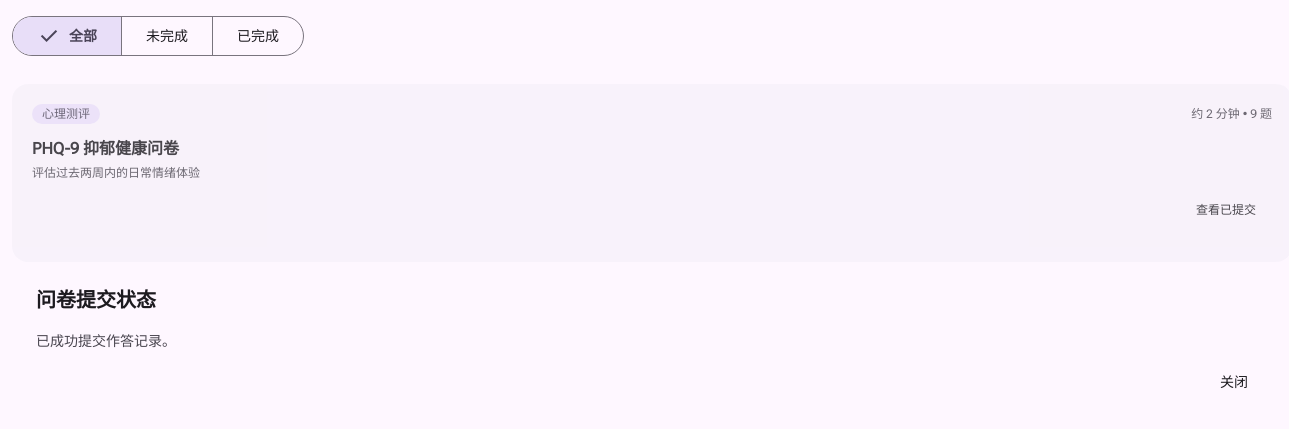
Test: AssessmentsPage › displays empty state when filtered result is empty
Expected: the heading "PHQ-9 抑郁健康问卷" is shown, [32,139,179,158]
// Filter to '未完成' when no unfinished scales exist
Click the radio button "未完成" at (168, 36), box [122,17,213,55]
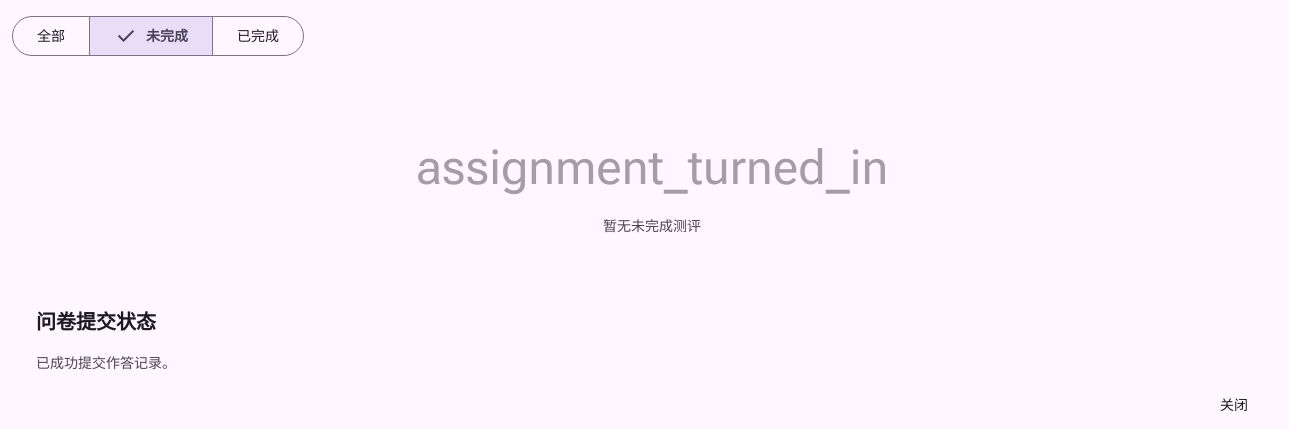
Now the text "暂无未完成测评" is shown, box [603,216,701,236]
Now the heading "PHQ-9 抑郁健康问卷" is gone
